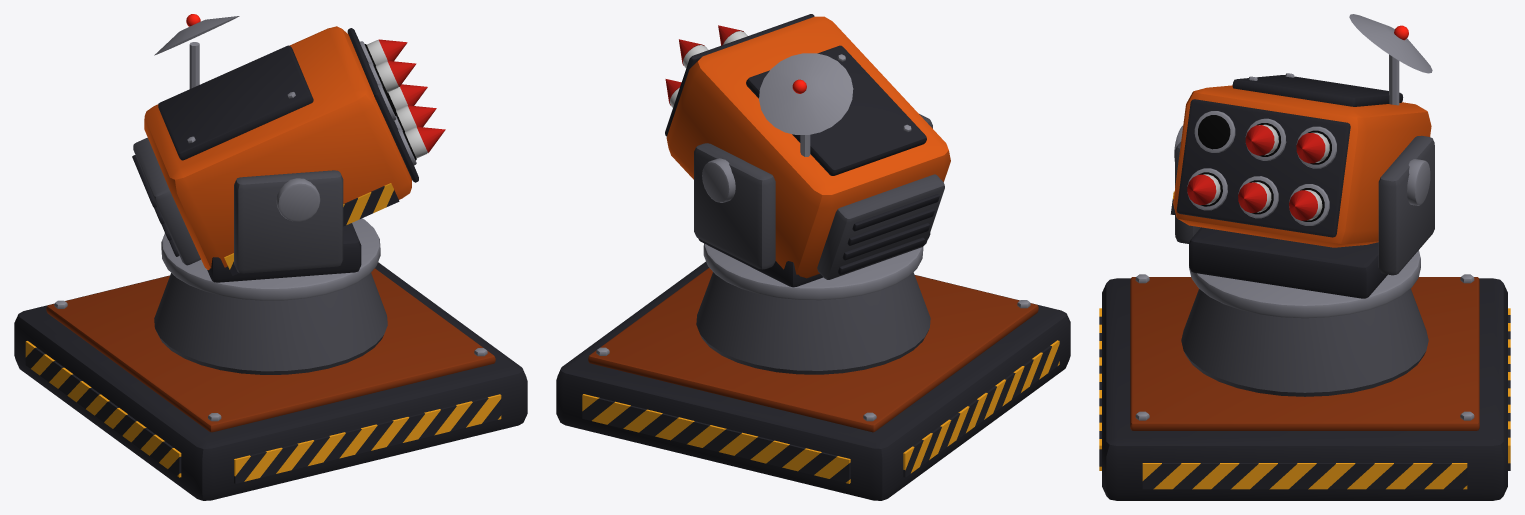
The model's file is MissileLauncher.obj.
The picture shows the model from 3 angles, left to right: view 1: azimuth 30°, elevation 25°; view 2: azimuth 150°, elevation 25°; view 3: azimuth 270°, elevation 25°; orthographic projection. The views are drawn at different scales.
Visible parts, largest first — view 1: MissileLauncher; view 2: MissileLauncher; view 3: MissileLauncher.
Part boxes in pixels (box(x1,y1,x2,y2)): MissileLauncher: box(14, 14, 527, 500); MissileLauncher: box(556, 14, 1070, 500); MissileLauncher: box(1099, 14, 1510, 500).
Bounding box in the file's own units: 1.06 × 1.1 × 1.06.
